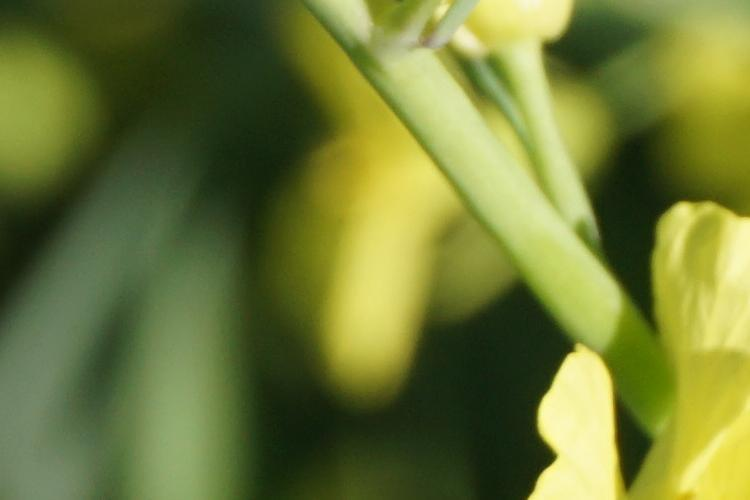yellow: (552, 214, 746, 498)
